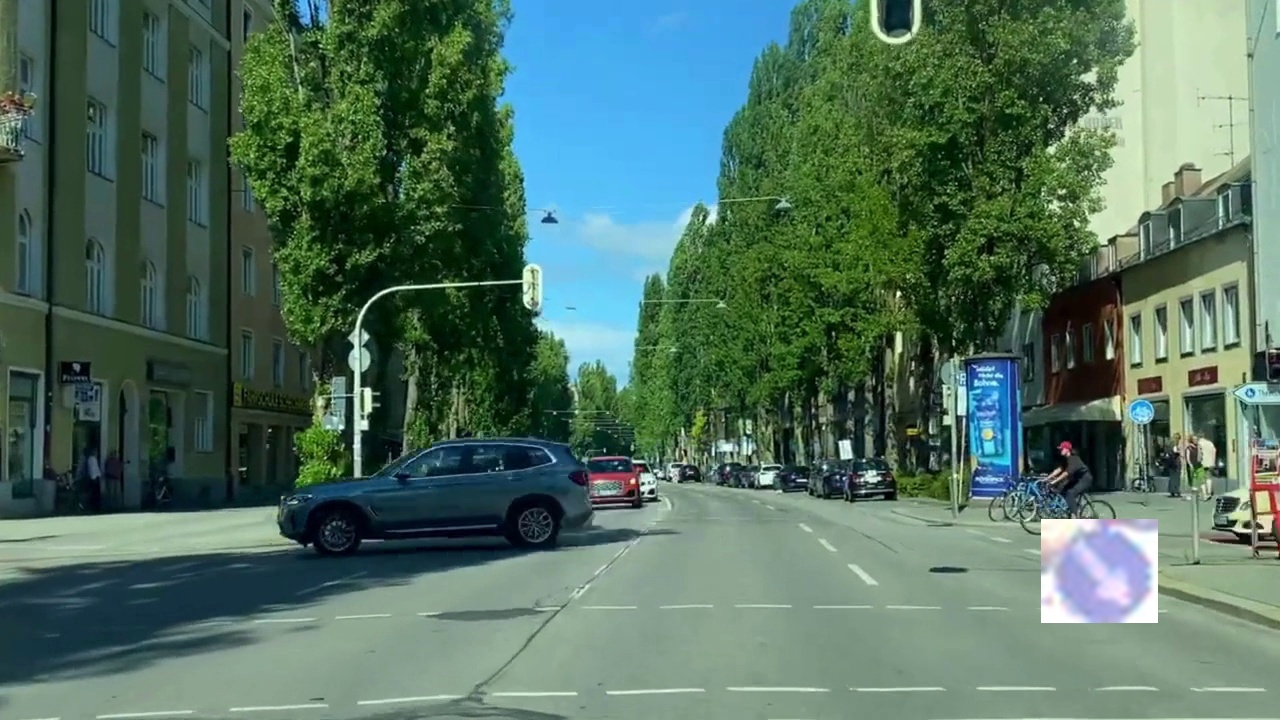Keep right: (1041, 519, 1158, 623)
